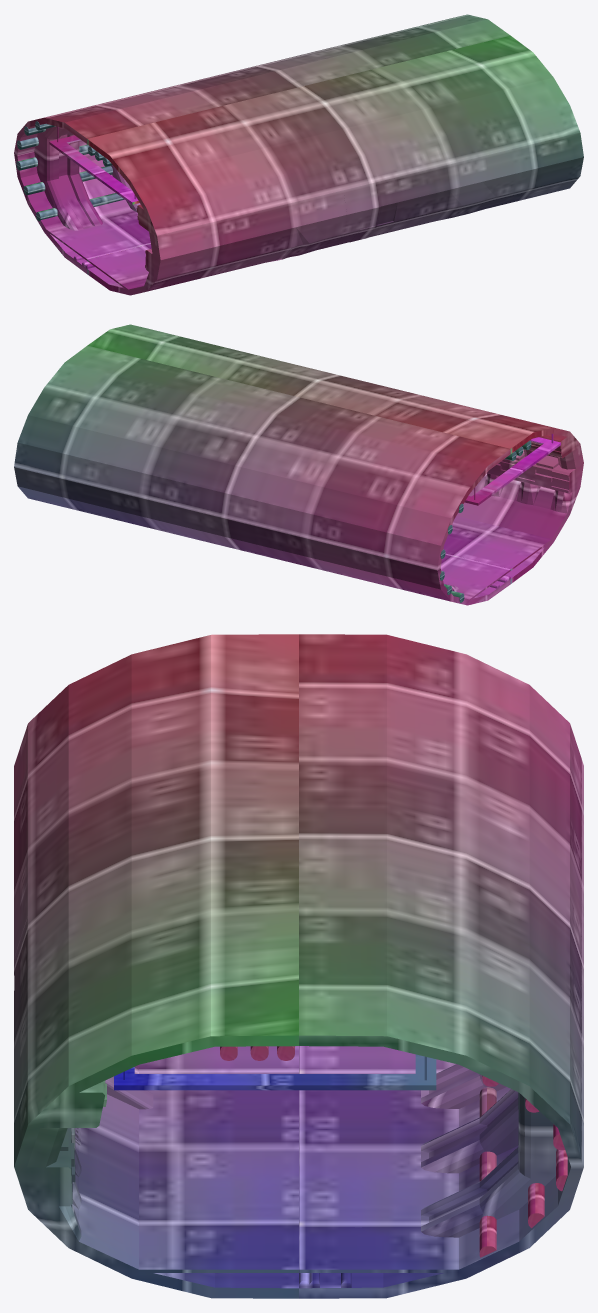
The model's file is UVOvalHallway.fbx.
The picture shows the model from 3 angles, top to bottom: view 1: azimuth 30°, elevation 25°; view 2: azimuth 150°, elevation 25°; view 3: azimuth 270°, elevation 25°; orthographic projection. The views are drawn at different scales.
Visible parts, largest first — view 1: OvalHallwayCase, Hanging_Frame, WallPipe6, WallPipe5; view 2: OvalHallwayCase, Hanging_Frame; view 3: OvalHallwayCase, Hanging_Frame, WallPipe6.
Boxes of the visible parts, <box> form: OvalHallwayCase: <box>14,14,583,295</box>; Hanging_Frame: <box>49,126,139,204</box>; WallPipe6: <box>36,193,124,221</box>; WallPipe5: <box>23,165,112,195</box>; OvalHallwayCase: <box>14,324,583,605</box>; Hanging_Frame: <box>464,434,560,505</box>; OvalHallwayCase: <box>14,634,583,1298</box>; Hanging_Frame: <box>114,1054,436,1090</box>; WallPipe6: <box>479,1087,496,1257</box>.
Size of the model in its own units: 26.79 by 8.14 by 15.97.
